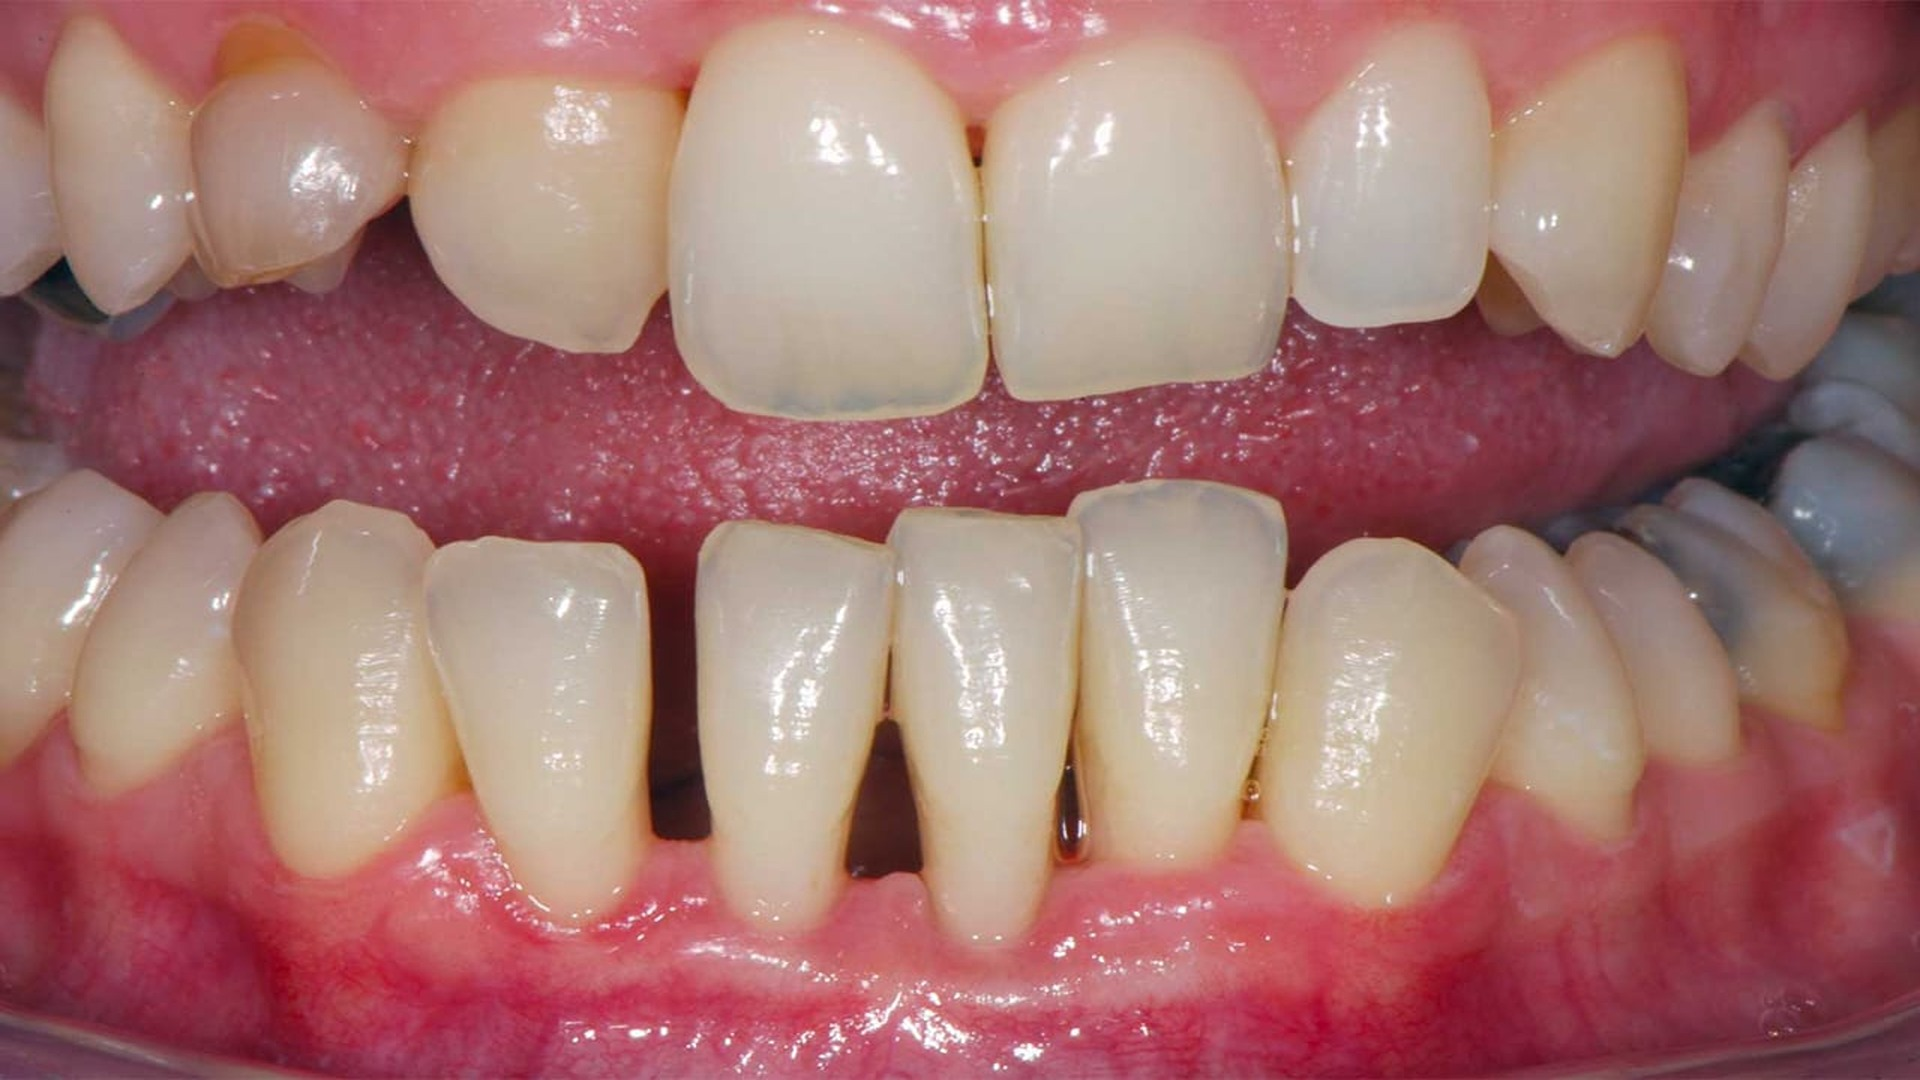tooth: (666, 19, 988, 421), (979, 36, 1292, 402), (1257, 538, 1520, 908), (423, 536, 653, 931), (888, 506, 1084, 949), (1068, 480, 1288, 871), (231, 499, 457, 879), (694, 519, 894, 934), (407, 76, 685, 353), (1490, 34, 1690, 359), (1290, 22, 1494, 329), (1460, 524, 1646, 848), (69, 491, 264, 798), (1617, 477, 1850, 731), (1, 469, 165, 769), (187, 71, 409, 289), (44, 17, 194, 315), (1564, 532, 1740, 766), (1648, 99, 1793, 378), (1741, 111, 1875, 382), (1768, 382, 1918, 616)
